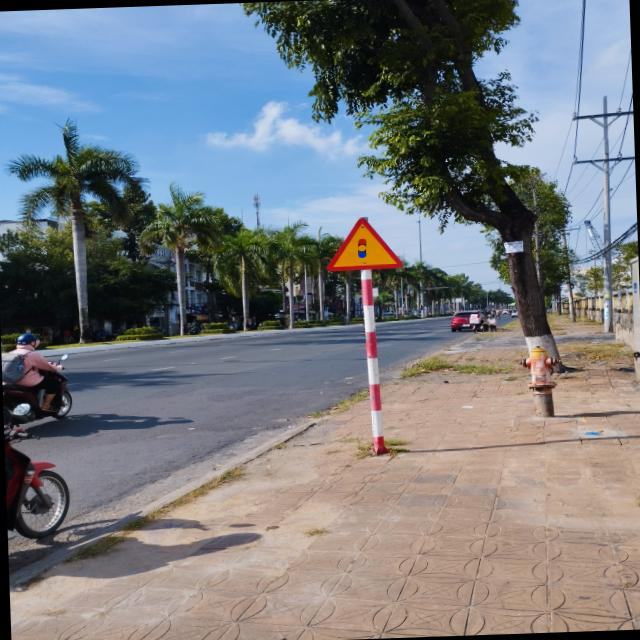Duong_Co_Go_Giam_Toc: (326, 217, 402, 271)
